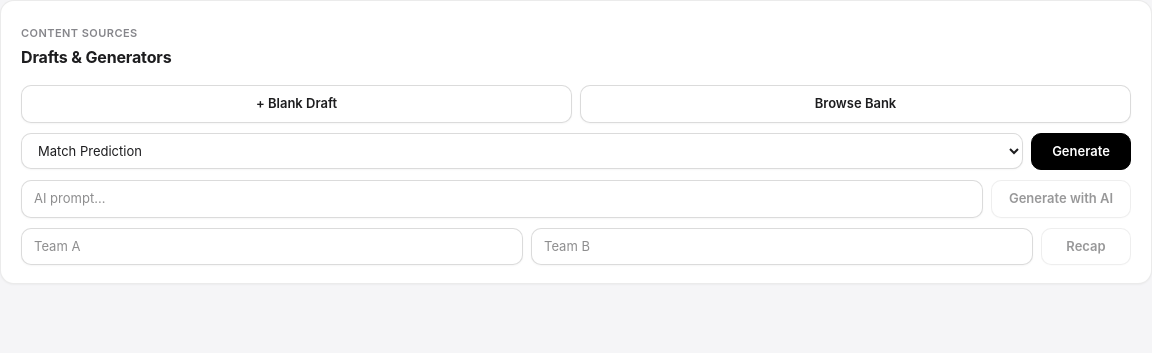
Test: SourceBar › LLM 503 shows a disabled message, no crash
In the field with placeholder "AI prompt…": (502, 199) [21,180,983,218], type "a fact"
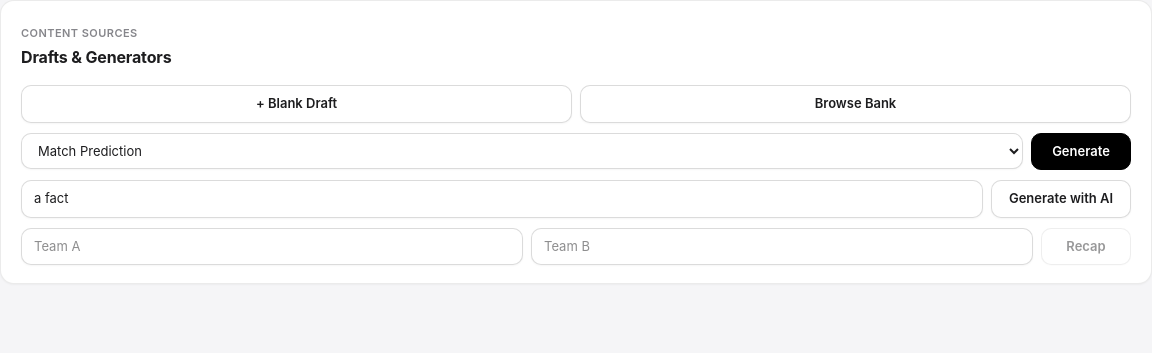
Click the button "Generate with AI": (1061, 199) [991,180,1131,218]
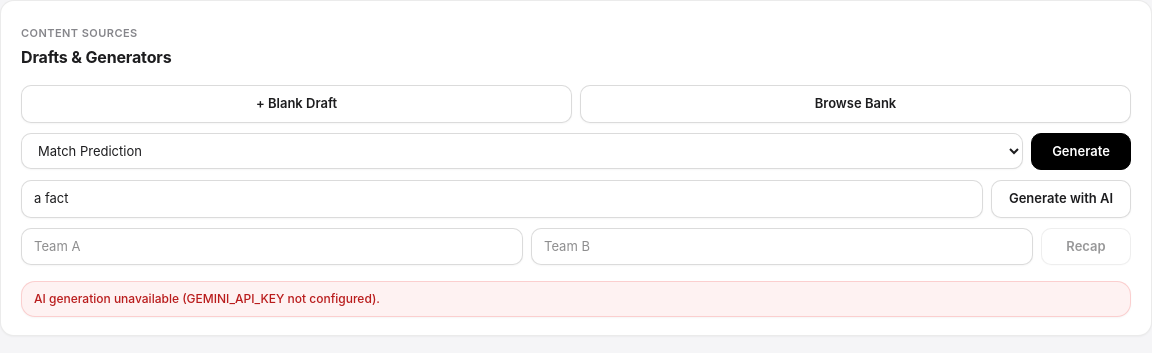
Result: the text "AI generation unavailable (GEMINI_API_KEY not configured)." is shown at [21,281,1131,317]
